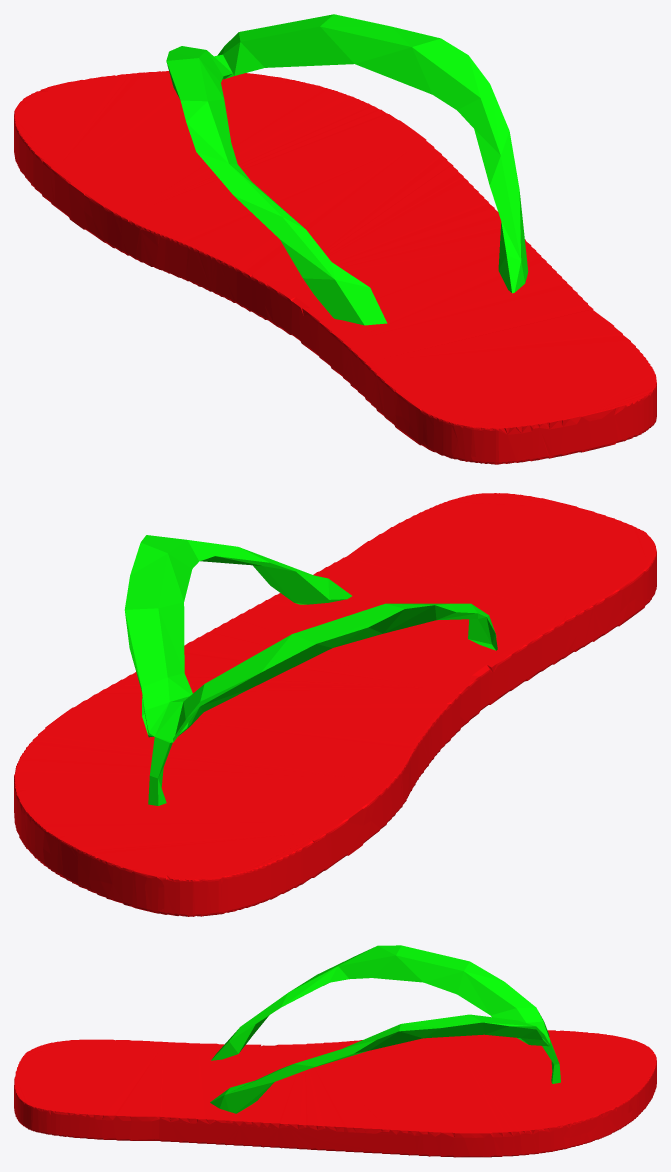
The model's file is flipflop.obj.
3 views of the same model, one above another, from view 1: azimuth 30°, elevation 25°; view 2: azimuth 150°, elevation 25°; view 3: azimuth 270°, elevation 25° (orthographic). The views are drawn at different scales.
Visible parts, largest first — view 1: Sohle, Riemen; view 2: Sohle, Riemen; view 3: Sohle, Riemen.
Part boxes in pixels (<box>): Sohle: <box>14,71,656,464</box>; Riemen: <box>166,14,528,325</box>; Sohle: <box>14,493,656,916</box>; Riemen: <box>124,535,497,805</box>; Sohle: <box>14,1030,656,1157</box>; Riemen: <box>210,945,560,1113</box>.
Size of the model in its own units: 4.15 by 2.19 by 10.81.
